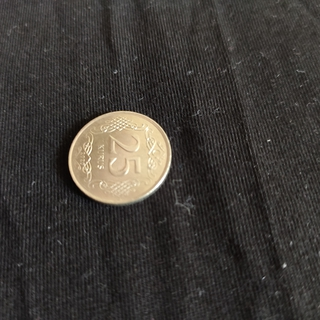25KURUS: (66, 109, 173, 207)
